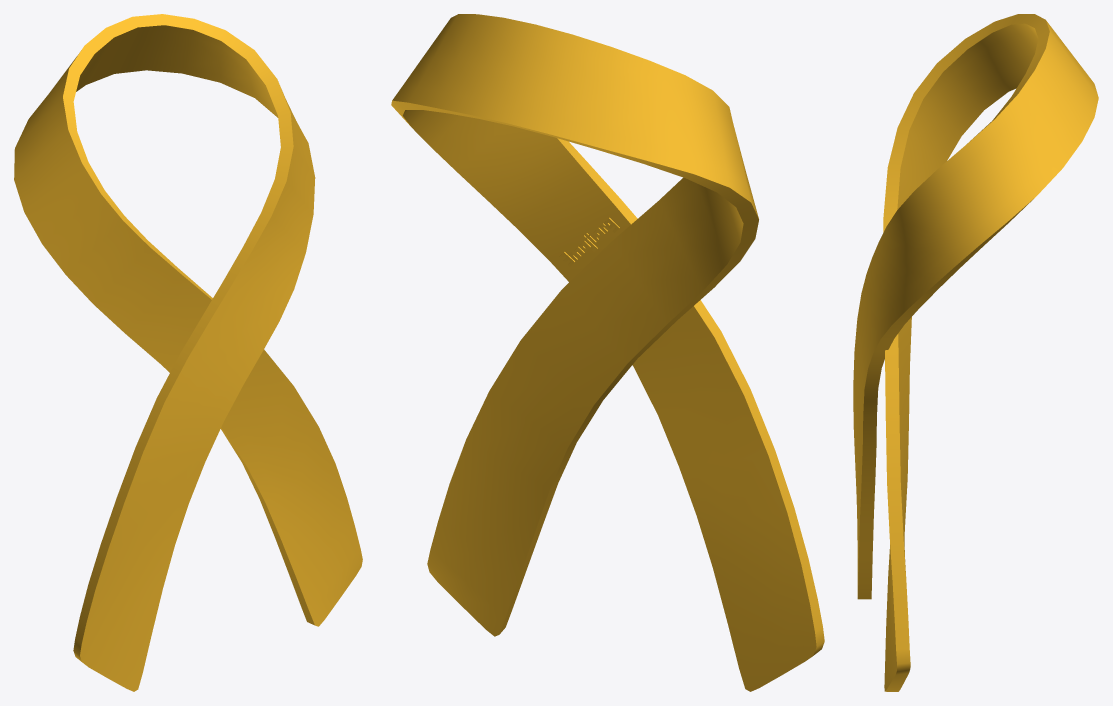
The model's file is reminder_ribbon.fbx.
3 views of the same model, side by side, from view 1: azimuth 30°, elevation 25°; view 2: azimuth 150°, elevation 25°; view 3: azimuth 270°, elevation 25° (orthographic). The views are drawn at different scales.
Visible parts, largest first — view 1: Plane.026; view 2: Plane.026; view 3: Plane.026.
Boxes of the visible parts, x1,y1,x2,y2 form: Plane.026: (14,14,362,691); Plane.026: (391,14,824,691); Plane.026: (853,14,1098,691).
Bounding box in the file's own units: 132 × 245 × 88.83.
Materials: 1 (1 with a texture image).
